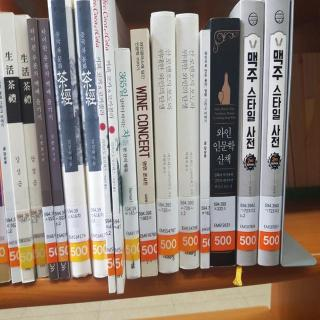book-spine: (47, 0, 91, 279), (73, 0, 108, 278), (254, 0, 290, 267), (0, 12, 35, 283), (14, 14, 49, 278), (26, 18, 59, 281), (233, 0, 265, 266), (38, 19, 70, 279), (208, 17, 240, 267), (151, 10, 179, 273), (129, 28, 158, 278), (92, 0, 116, 293), (101, 0, 124, 294), (114, 48, 141, 279), (176, 13, 199, 269), (0, 42, 21, 282), (200, 30, 210, 269), (65, 204, 91, 263), (209, 196, 235, 251), (156, 197, 179, 256), (258, 195, 282, 251), (235, 195, 259, 251), (178, 195, 200, 252), (0, 170, 11, 283), (15, 209, 34, 270), (138, 203, 157, 261), (88, 203, 107, 261), (122, 201, 140, 261), (31, 206, 47, 265), (42, 206, 58, 263), (4, 210, 20, 267), (53, 205, 68, 262), (104, 214, 115, 276), (0, 206, 10, 263), (113, 214, 122, 276), (200, 199, 210, 253)
